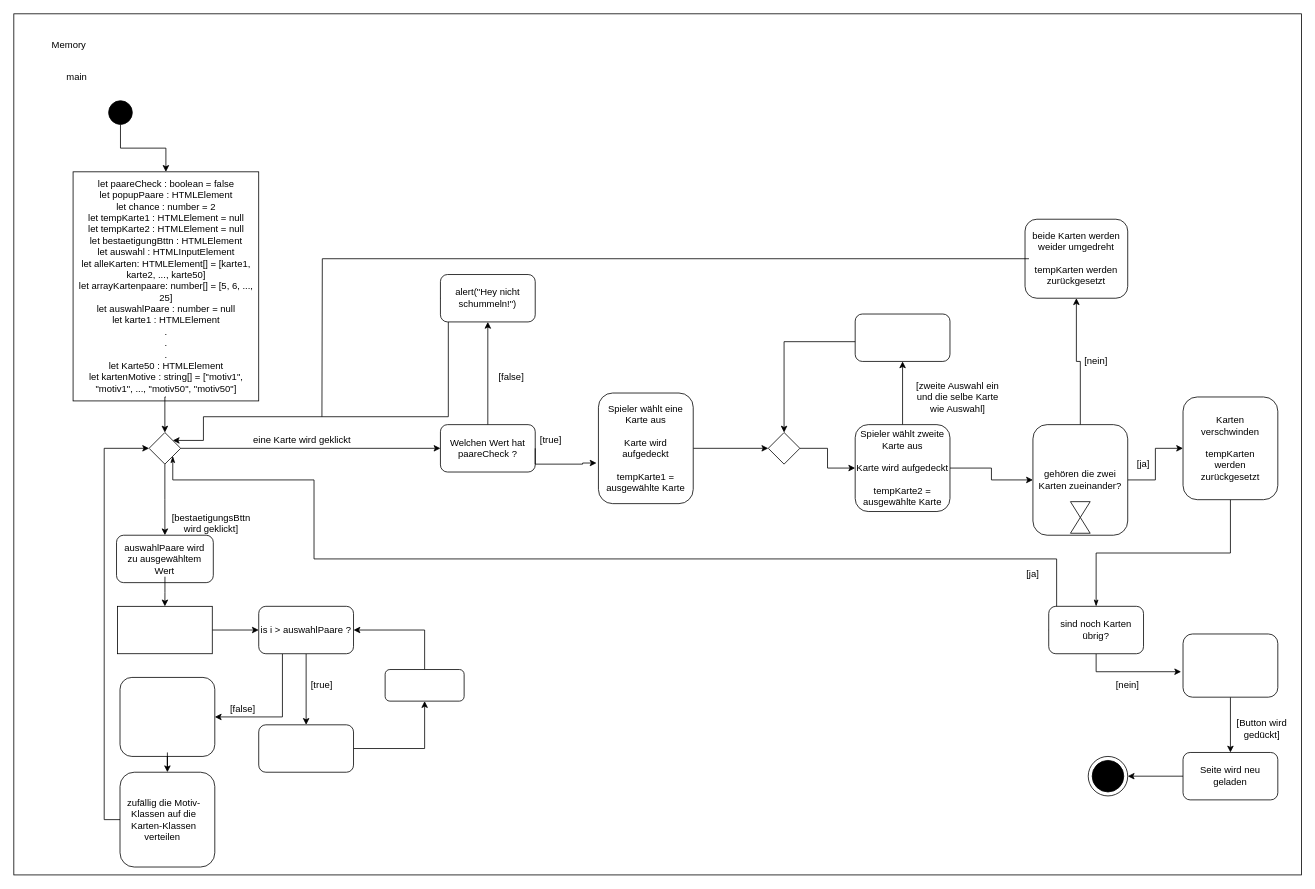
Image size: 1315x889. Some labels were removed from this diagram. Here are the shapes that lost their labels. From the top down, the centre of each, then its label:
(x=902, y=337): zweite Auswahl rückgängig
(x=164, y=630): i : number = 25
(x=424, y=685): i - 0,5
(x=1230, y=665): PopUp "Congratulations!" taucht auf und "Nochmal"-Button taucht auf
(x=167, y=716): let paareCheck = true verstecke popupPaare
(x=306, y=748): alleKarten.pop()
